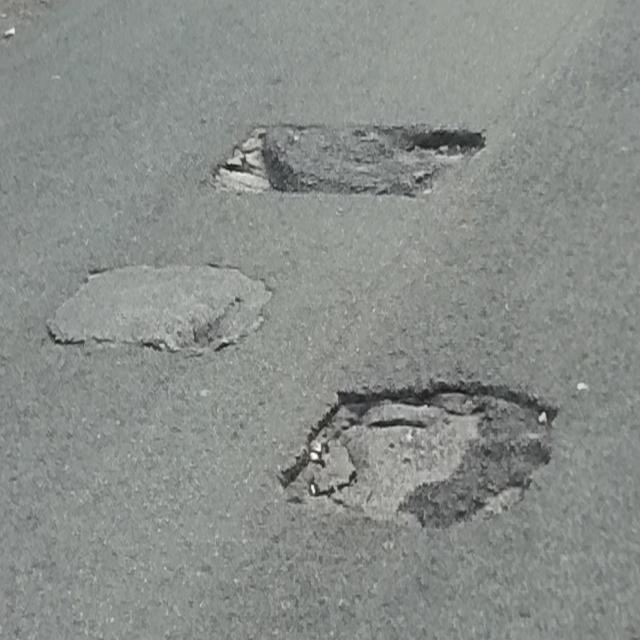pothole: (251, 304, 573, 597), (207, 78, 498, 250), (42, 240, 296, 390)
